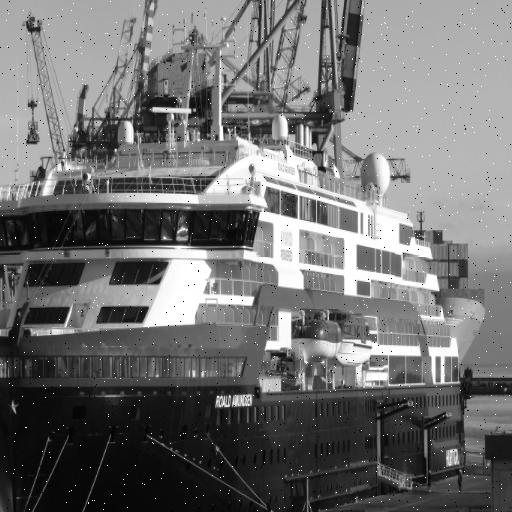cruises: (1, 38, 471, 512)
